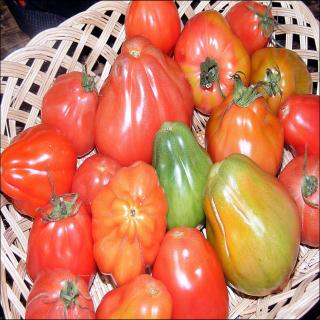Tomato: (0, 0, 320, 320), (154, 226, 230, 317)
